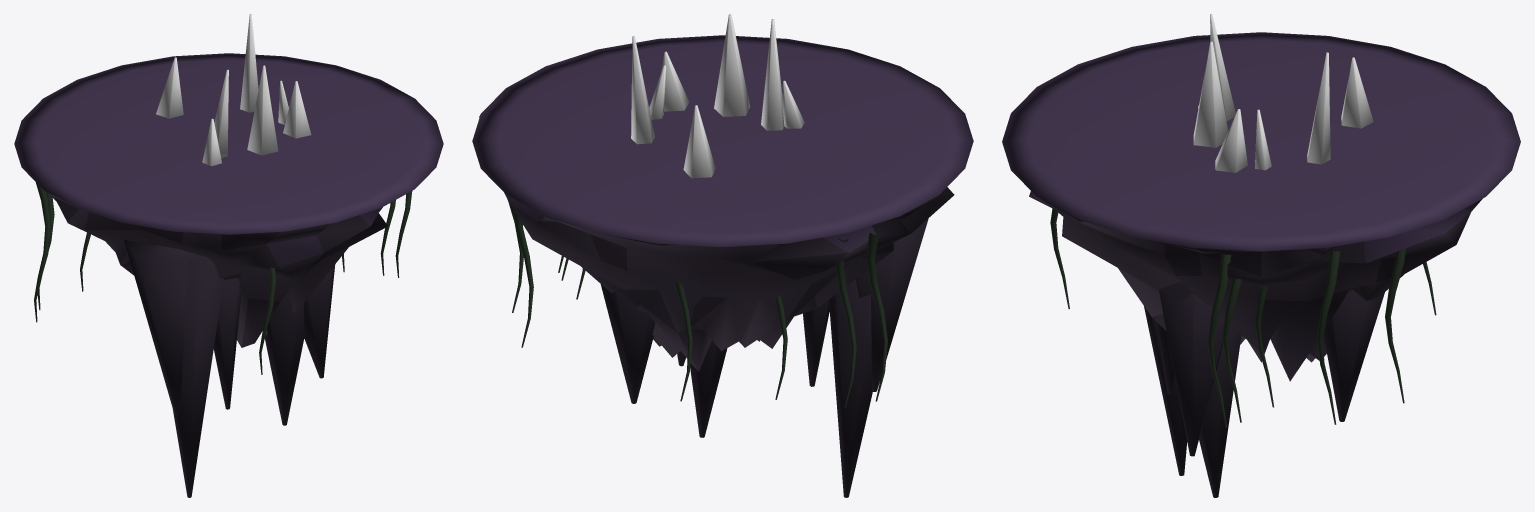
The model's file is floatrock.glb.
The picture shows the model from 3 angles, left to right: view 1: azimuth 30°, elevation 25°; view 2: azimuth 150°, elevation 25°; view 3: azimuth 270°, elevation 25°; orthographic projection. The views are drawn at different scales.
Parts seen in each view (by area): view 1: Rock, Glow; view 2: Rock, Glow; view 3: Rock, Glow.
Part boxes in pixels (x1,y1,x2,y2): Rock: (14,53,443,497); Glow: (156,14,311,166); Rock: (472,35,973,497); Glow: (631,14,804,178); Rock: (1002,32,1520,497); Glow: (1193,14,1373,172).
Size of the model in its own units: 19.32 by 20.3 by 19.32.
